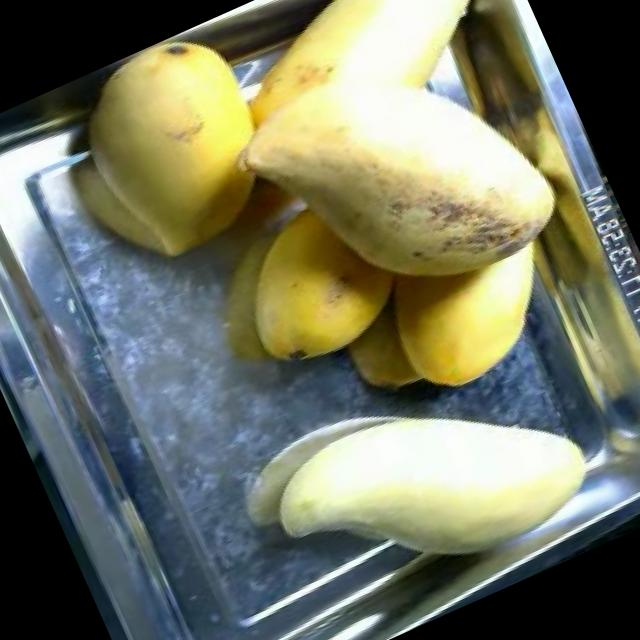fruit: (226, 304, 632, 640), (36, 8, 325, 299), (190, 167, 430, 403)
